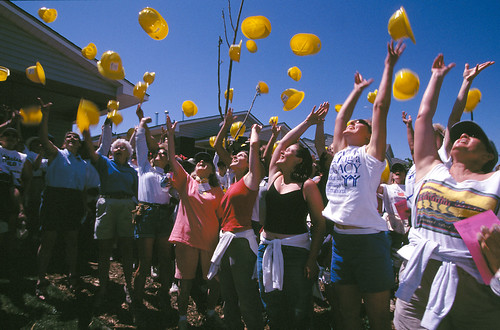hardhat: (133, 6, 172, 40), (387, 7, 420, 47), (390, 68, 420, 102), (76, 94, 99, 135), (239, 15, 277, 39), (291, 31, 323, 58), (25, 63, 55, 88), (280, 87, 304, 115), (14, 106, 49, 124), (465, 87, 483, 117), (229, 121, 251, 142), (39, 6, 60, 26), (130, 81, 148, 104), (228, 39, 243, 64), (180, 101, 199, 120), (202, 136, 227, 150), (84, 40, 99, 62), (288, 65, 304, 85), (243, 40, 261, 56), (141, 71, 161, 85), (366, 87, 382, 104), (1, 67, 15, 83), (223, 86, 237, 102), (257, 82, 273, 96), (109, 110, 120, 125), (106, 98, 120, 109), (332, 103, 345, 111), (270, 115, 279, 124)
